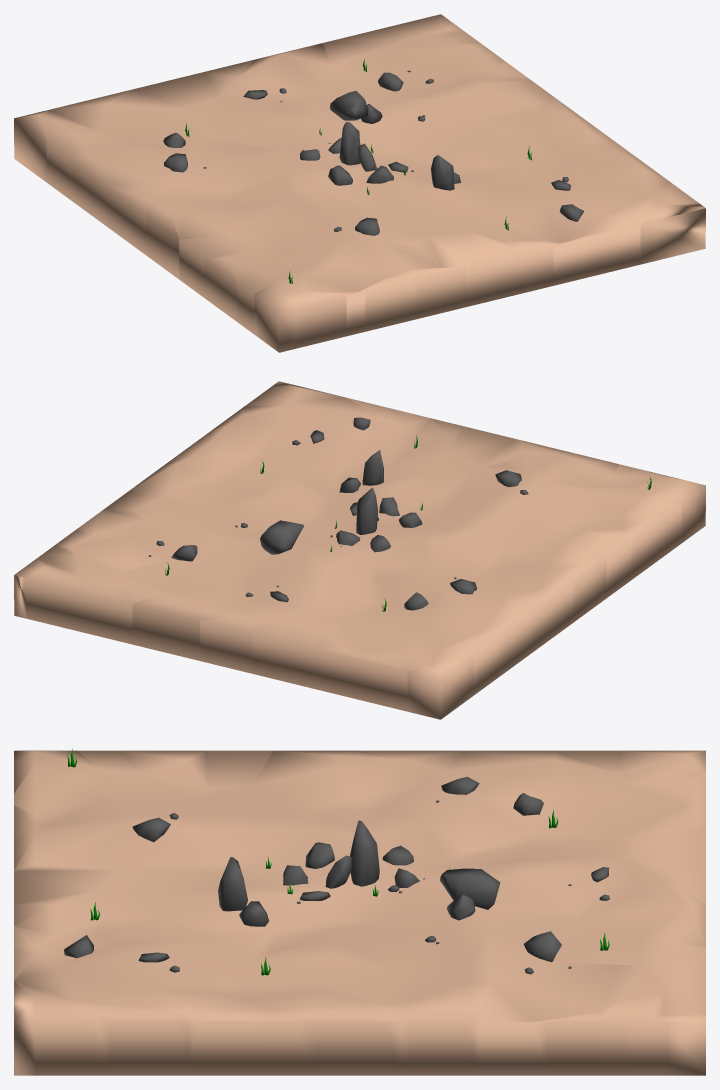
Rendered from fixed-scene.obj.
The picture shows the model from 3 angles, top to bottom: view 1: azimuth 30°, elevation 25°; view 2: azimuth 150°, elevation 25°; view 3: azimuth 270°, elevation 25°; orthographic projection. The views are drawn at different scales.
Parts seen in each view (by area): view 1: sand, rock_017, rock_5, rock_014; view 2: sand, rock_017, rock_5, rock_014; view 3: sand, rock_017, rock_5, rock_014, rock_023, rock_4, rock_7, rock_025, rock_015, rock_016.
Boxes of the visible parts, x1=… form: sand: x1=14, y1=14, x2=705, y2=352; rock_017: x1=330, y1=91, x2=367, y2=120; rock_5: x1=339, y1=122, x2=360, y2=165; rock_014: x1=431, y1=155, x2=454, y2=190; sand: x1=14, y1=381, x2=705, y2=719; rock_017: x1=260, y1=520, x2=303, y2=554; rock_5: x1=356, y1=488, x2=377, y2=534; rock_014: x1=362, y1=450, x2=383, y2=485; sand: x1=14, y1=750, x2=705, y2=1075; rock_017: x1=440, y1=868, x2=500, y2=909; rock_5: x1=350, y1=820, x2=379, y2=886; rock_014: x1=218, y1=857, x2=247, y2=911; rock_023: x1=523, y1=931, x2=561, y2=962; rock_4: x1=305, y1=842, x2=334, y2=868; rock_7: x1=325, y1=855, x2=352, y2=888; rock_025: x1=132, y1=817, x2=170, y2=842; rock_015: x1=239, y1=901, x2=268, y2=926; rock_016: x1=447, y1=894, x2=475, y2=920.
Bounding box in the file's own units: 465 × 88.72 × 499.
